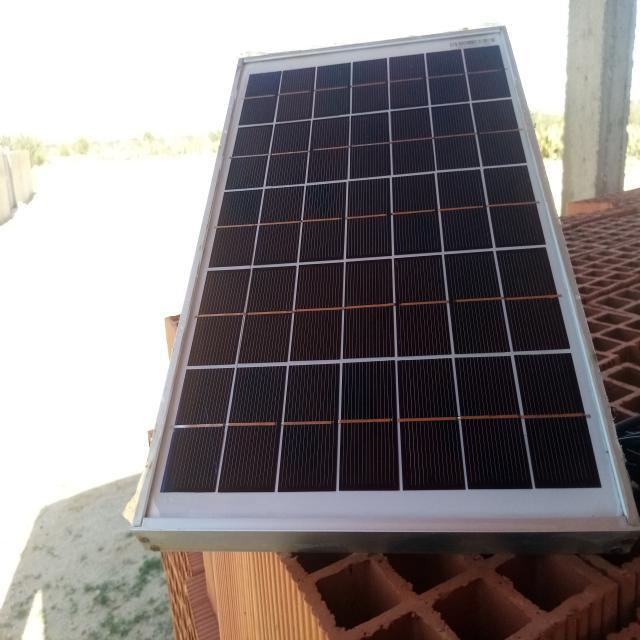no faulty: (134, 29, 640, 529)
